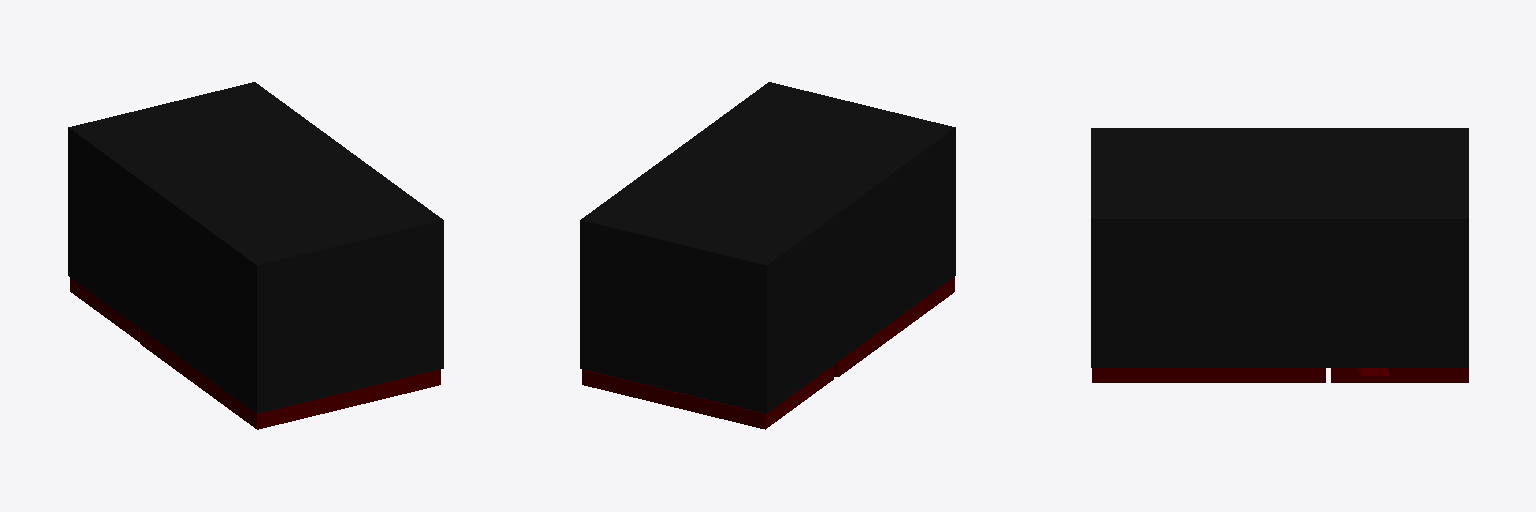
File: fridgeattempt.obj
The picture shows the model from 3 angles: view 1: azimuth 30°, elevation 25°; view 2: azimuth 150°, elevation 25°; view 3: azimuth 270°, elevation 25°; orthographic projection.
Visible parts, largest first — view 1: pasted__pCube3, pasted__pCube5, pasted__pCube4; view 2: pasted__pCube3, pasted__pCube4, pasted__pCube5; view 3: pasted__pCube3, pasted__pCube5, pasted__pCube4.
Boxes of the visible parts, <box> form: pasted__pCube3: <box>68,82,443,413</box>; pasted__pCube5: <box>140,329,440,429</box>; pasted__pCube4: <box>70,278,139,341</box>; pasted__pCube3: <box>580,82,955,413</box>; pasted__pCube4: <box>582,366,833,429</box>; pasted__pCube5: <box>834,277,954,376</box>; pasted__pCube3: <box>1091,128,1468,367</box>; pasted__pCube5: <box>1092,368,1325,382</box>; pasted__pCube4: <box>1331,368,1468,382</box>.
Size of the model in its own units: 43.03 by 36.26 by 75.36.